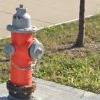a fire hydrant: (5, 5, 44, 94)
